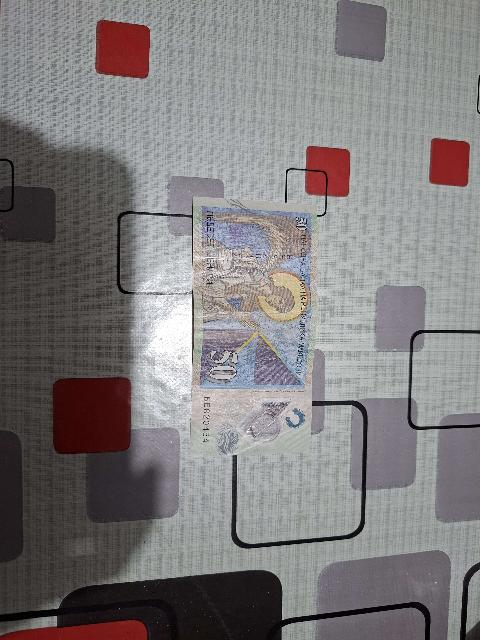50_note: (191, 198, 316, 456)
